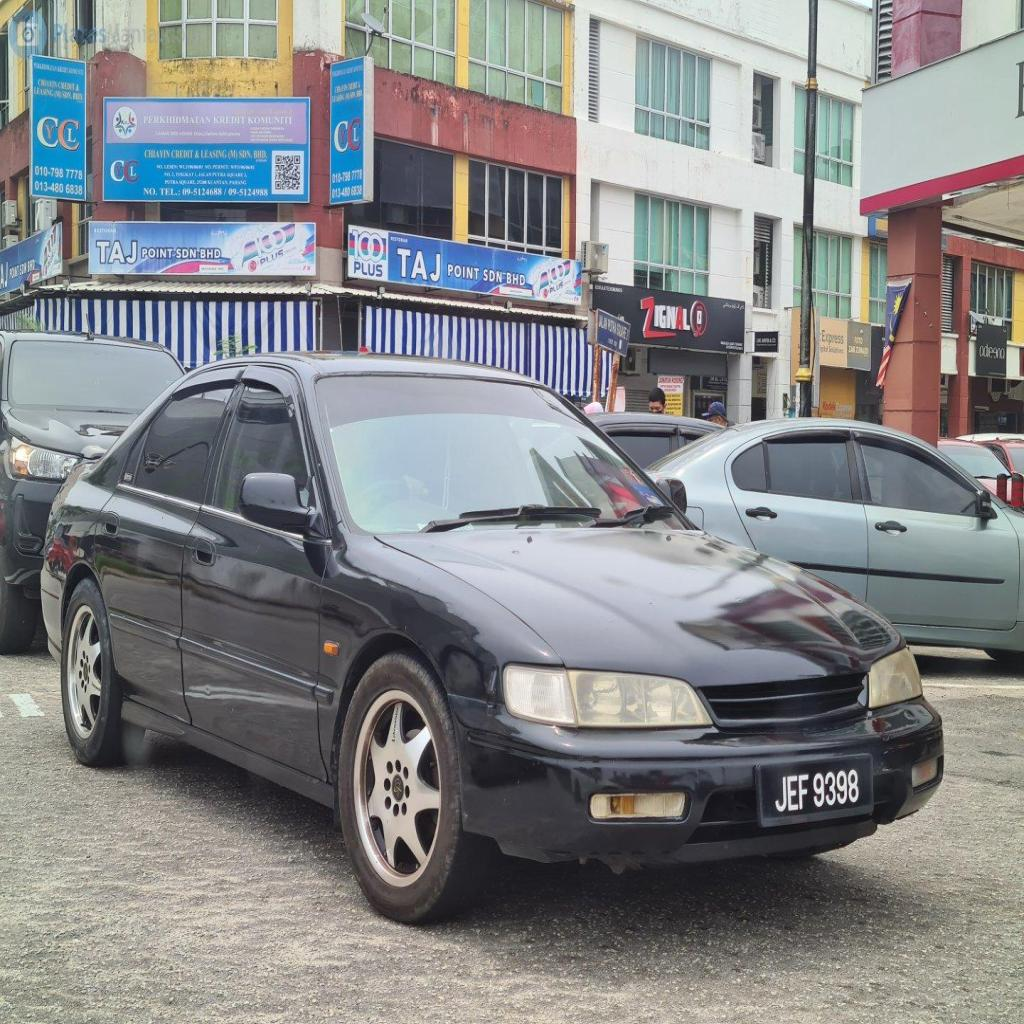car: (43, 353, 942, 920)
car plate: (755, 755, 872, 825)
